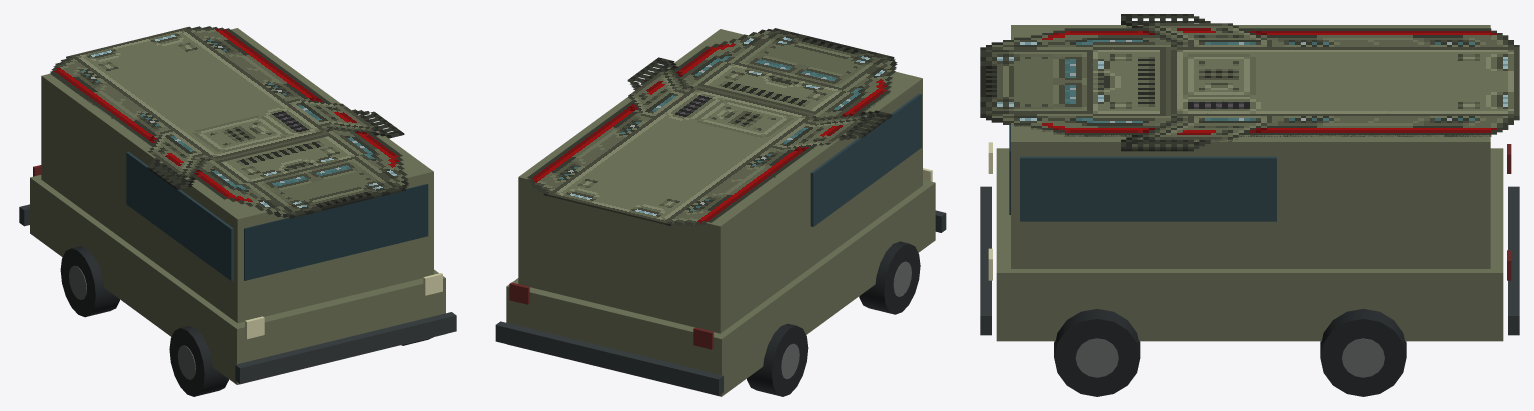
Rendered from CMU3DReduxVehicleSPPVanPrisoner.glb.
3 renders of one model, left to right at view 1: azimuth 30°, elevation 25°; view 2: azimuth 150°, elevation 25°; view 3: azimuth 270°, elevation 25°, orthographic. The views are drawn at different scales.
Visible parts, largest first — view 1: source hull roof panel (×3), upper hull, closed lower chassis, cab windscreen, cab side window, front bumper, road tire (×2), wheel hub (×2); view 2: source hull roof panel (×3), upper hull, closed lower chassis, cab side window, rear bumper, road tire (×2), wheel hub (×2); view 3: source hull roof panel (×3), upper hull, closed lower chassis, cab side window, road tire (×2), wheel hub (×2), rear bumper, front bumper.
Boxes of the visible parts, bbox=[...] form: source hull roof panel (×3): bbox=[50, 26, 408, 218]; upper hull: bbox=[41, 28, 433, 323]; closed lower chassis: bbox=[30, 175, 445, 384]; cab windscreen: bbox=[244, 184, 428, 280]; cab side window: bbox=[126, 152, 233, 281]; front bumper: bbox=[235, 312, 456, 383]; road tire (×2): bbox=[60, 246, 228, 396]; wheel hub (×2): bbox=[69, 265, 195, 379]; source hull roof panel (×3): bbox=[527, 28, 897, 226]; upper hull: bbox=[518, 29, 922, 333]; closed lower chassis: bbox=[506, 179, 935, 396]; cab side window: bbox=[810, 93, 921, 226]; rear bumper: bbox=[495, 321, 723, 395]; road tire (×2): bbox=[747, 241, 920, 396]; wheel hub (×2): bbox=[781, 261, 911, 379]; source hull roof panel (×3): bbox=[980, 14, 1519, 151]; upper hull: bbox=[1011, 25, 1490, 268]; closed lower chassis: bbox=[996, 148, 1503, 341]; cab side window: bbox=[1020, 156, 1276, 221]; road tire (×2): bbox=[1054, 308, 1406, 396]; wheel hub (×2): bbox=[1075, 338, 1384, 377]; rear bumper: bbox=[1508, 186, 1519, 335]; front bumper: bbox=[980, 186, 991, 335].
Bounding box in the file's own units: 1.85 × 1.49 × 3.
Materials: 11 (3 with a texture image).
